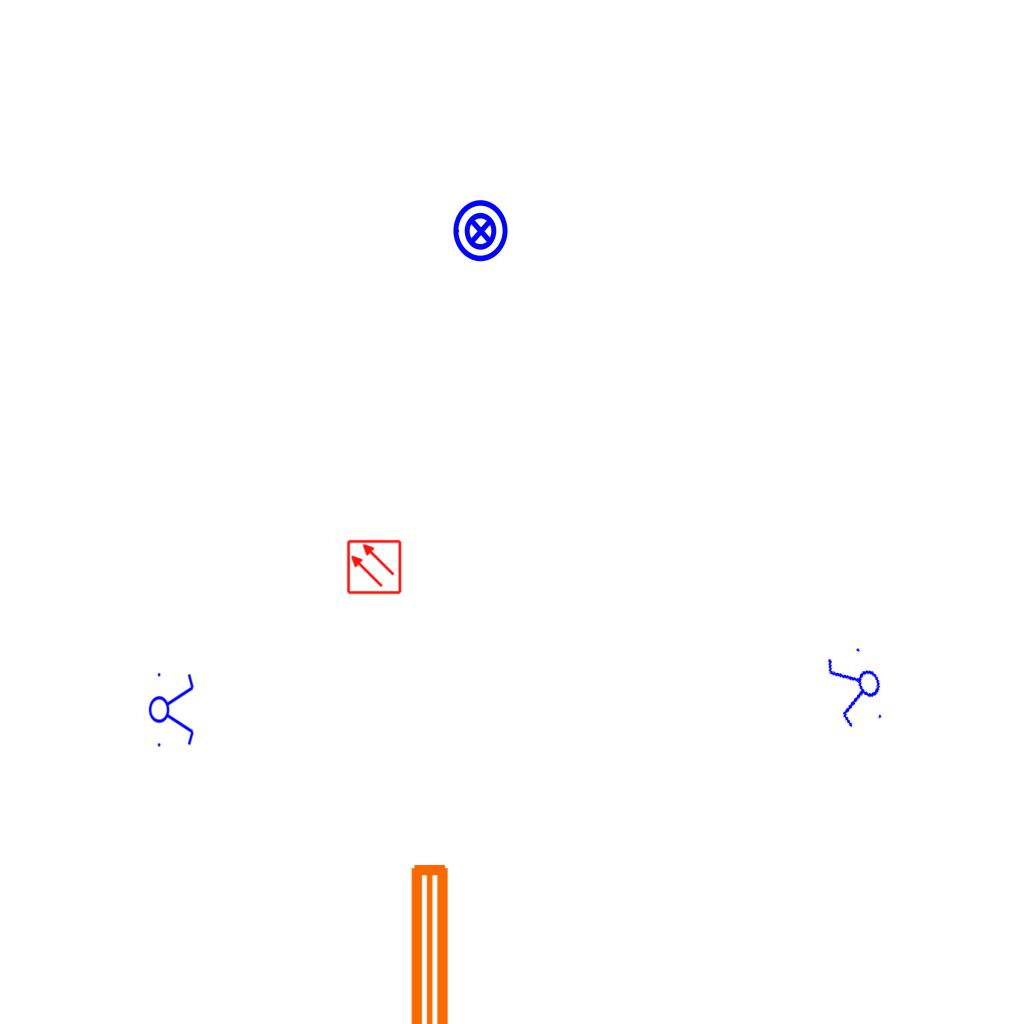Ambulanz_Pendelleuchte_LED: (399, 854, 511, 1024)
RMO_Rauchmelder_optischer: (346, 539, 402, 595)
Serienschalter: (821, 640, 893, 736), (148, 667, 196, 751)
Taster_beleuchtet: (448, 198, 514, 264)
